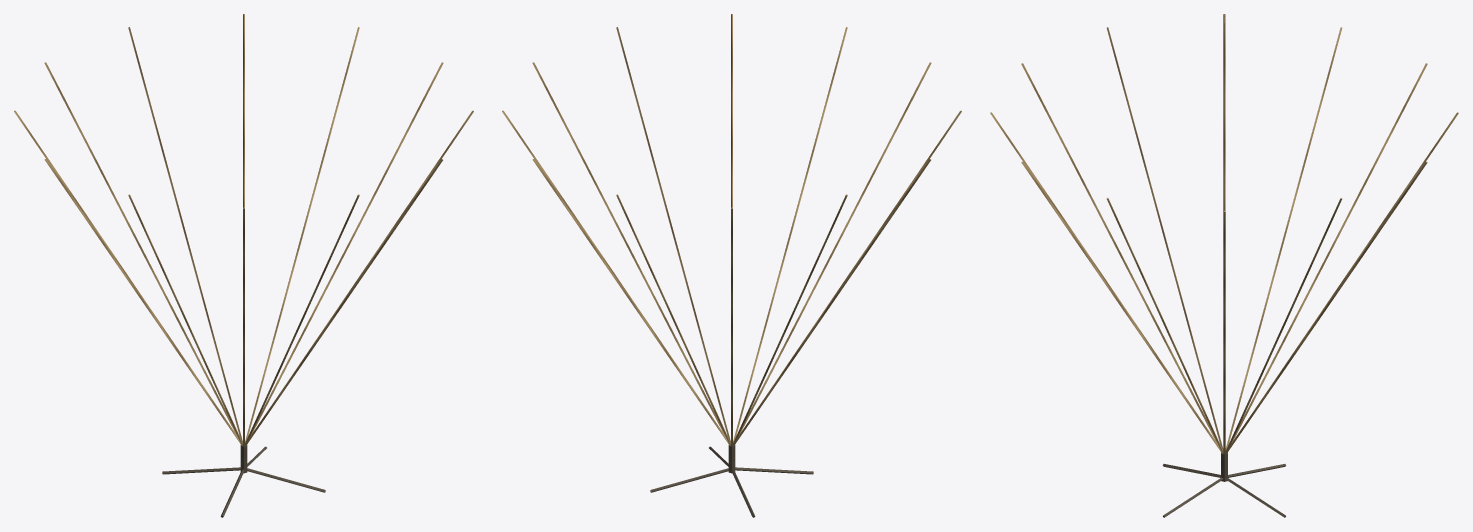
Rendered from SM_Parachute_Lines.fbx.
3 views of the same model, side by side, from view 1: azimuth 30°, elevation 25°; view 2: azimuth 150°, elevation 25°; view 3: azimuth 270°, elevation 25° (orthographic).
Parts seen in each view (by area): view 1: SM_Parachute_Lines; view 2: SM_Parachute_Lines; view 3: SM_Parachute_Lines.
Boxes of the visible parts, box(x1,y1,x2,y2) form: SM_Parachute_Lines: box(14, 14, 473, 517); SM_Parachute_Lines: box(502, 14, 961, 517); SM_Parachute_Lines: box(990, 14, 1458, 517).
Bounding box in the file's own units: 13.89 × 12.44 × 13.89.
Materials: 1 (1 with a texture image).
